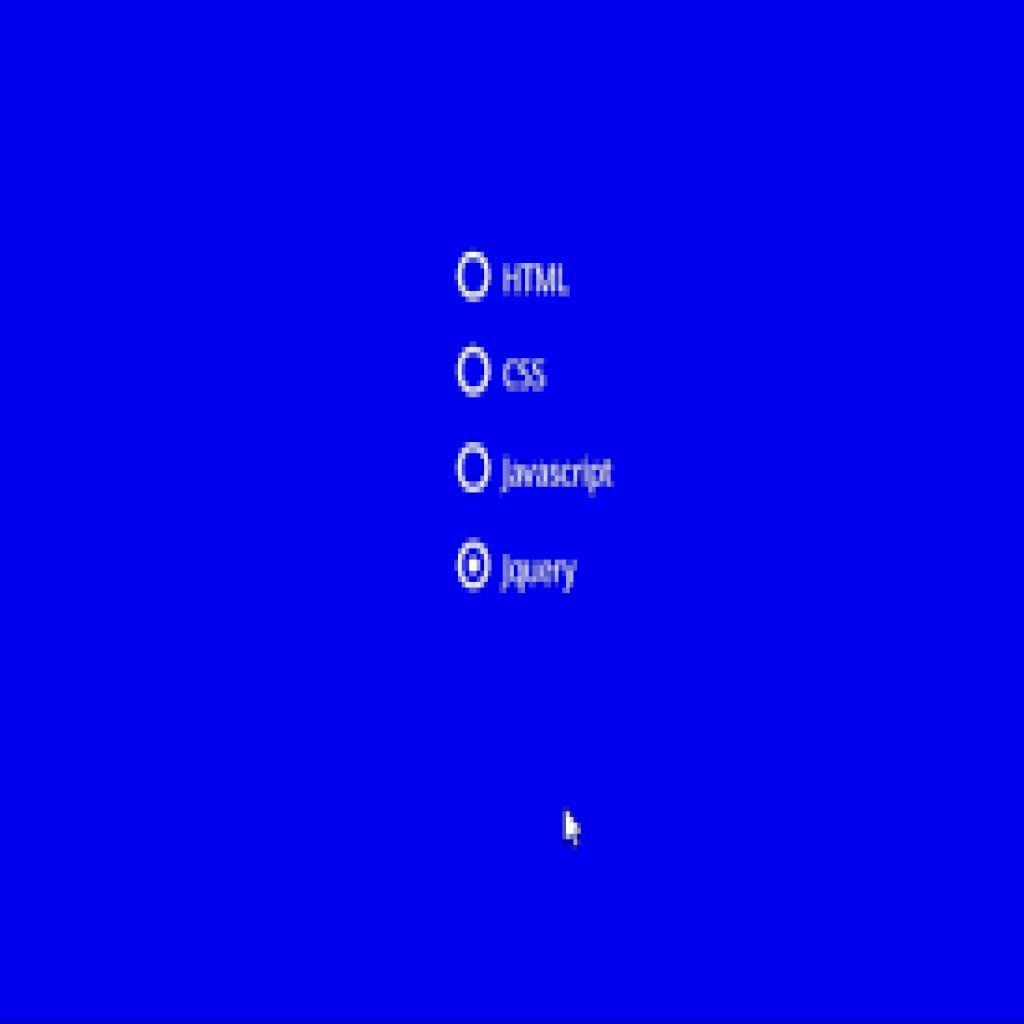radio: (451, 528, 498, 611), (452, 431, 499, 512), (452, 333, 494, 404), (455, 245, 493, 308)
